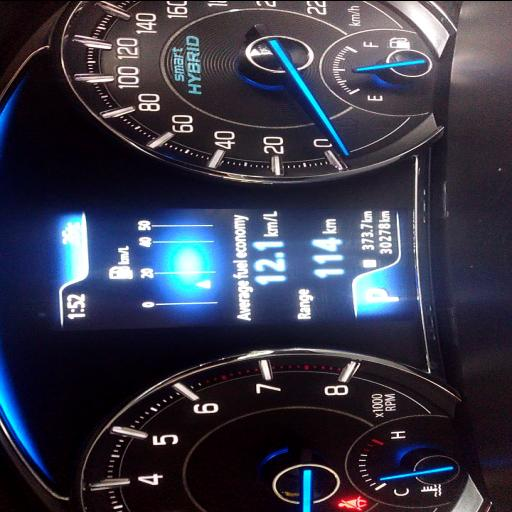belt: (338, 496, 367, 510)
tachometer: (77, 347, 485, 512)
